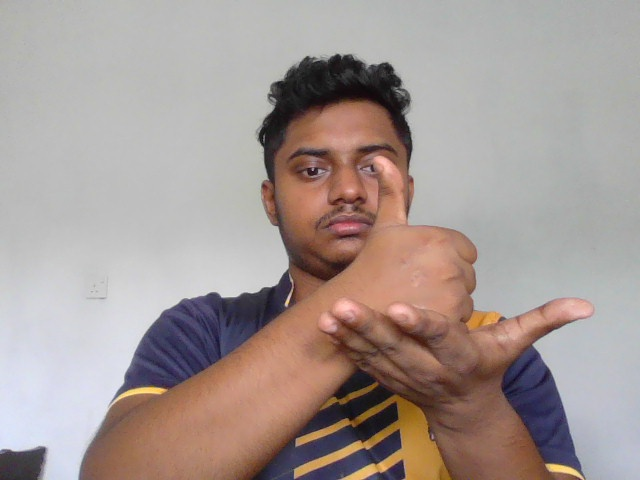Help: (318, 155, 595, 395)
